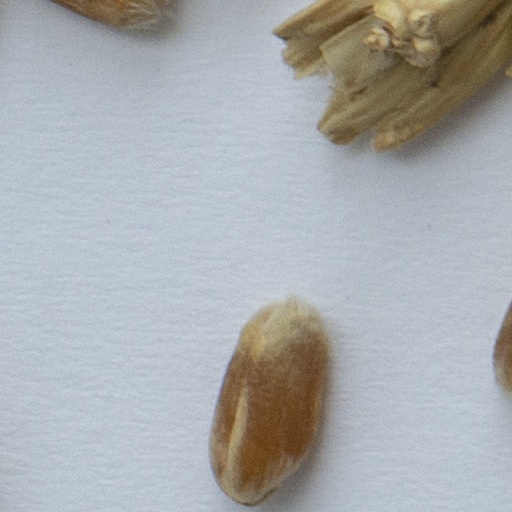Peel-poly: (276, 0, 511, 152)
